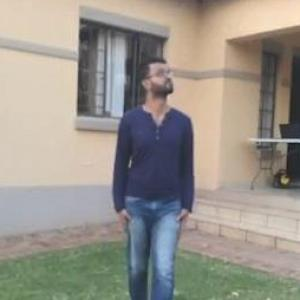follow: (113, 54, 199, 299)
